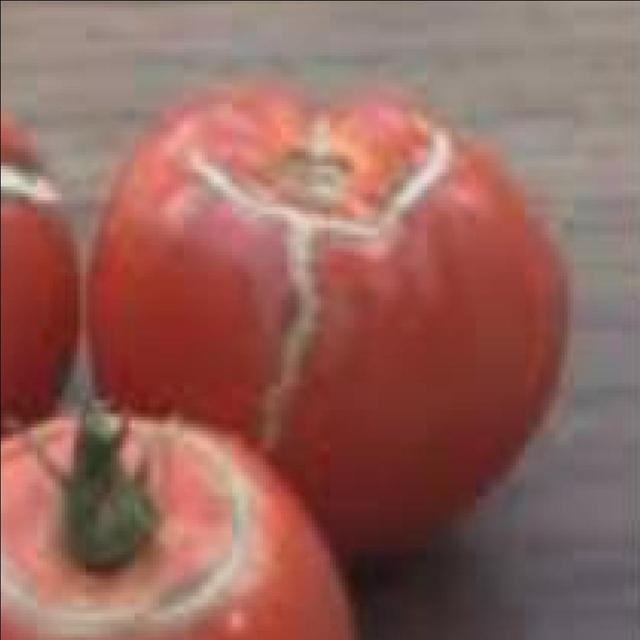Cracking Fruit: (20, 46, 205, 345)
